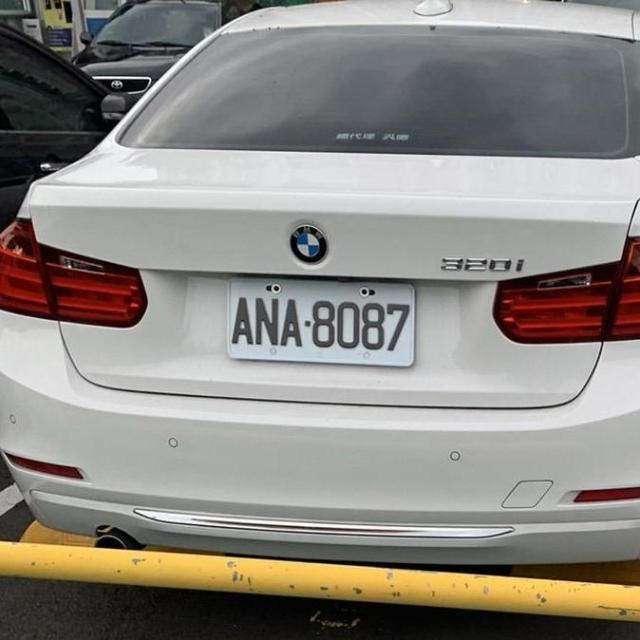W: (226, 278, 418, 369)
